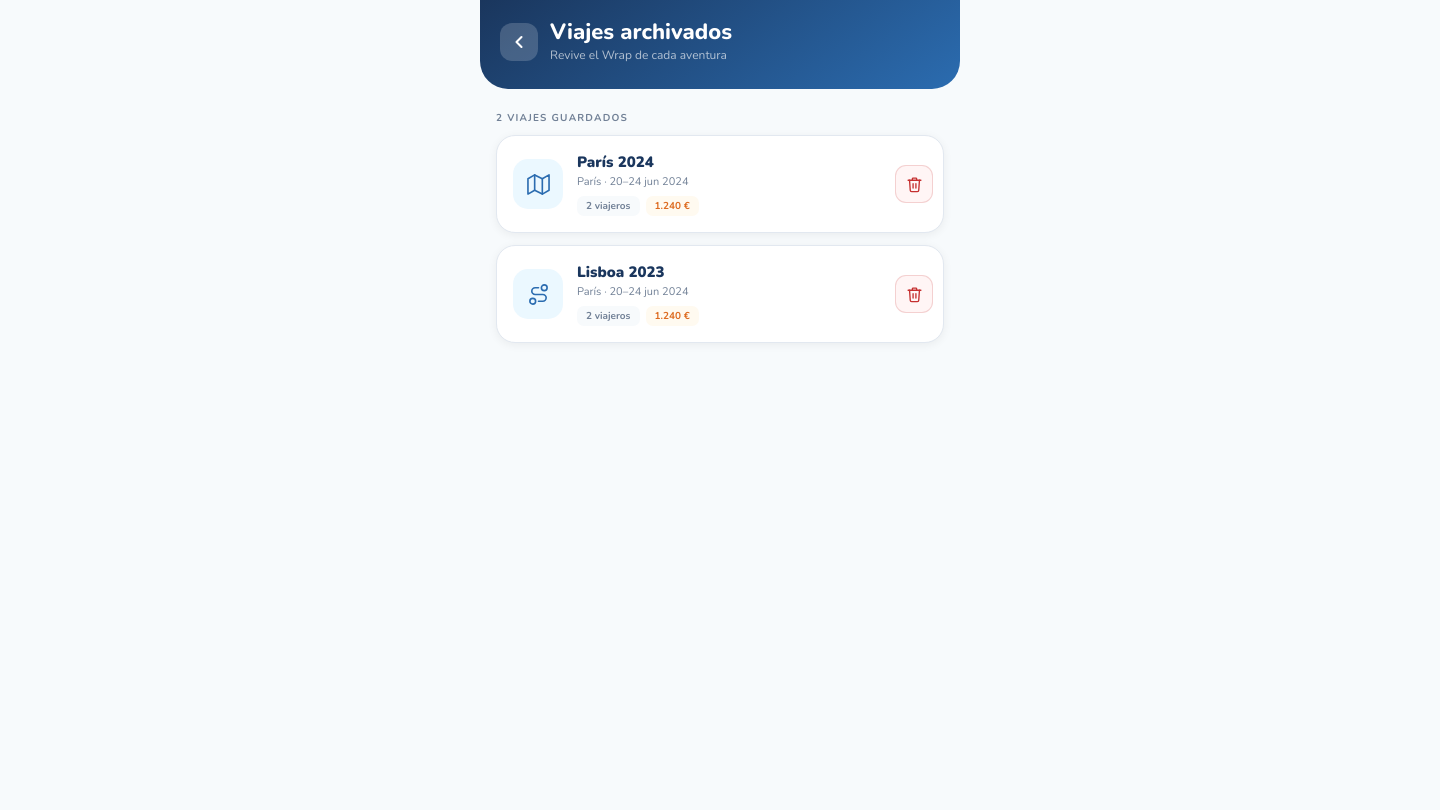
Test: ViajesArchivados · eliminar con confirmación › al confirmar borra el viaje en el backend y lo quita de la lista
Click the button named "Eliminar París 2024".
click(914, 184)  # box [895,165,933,203]
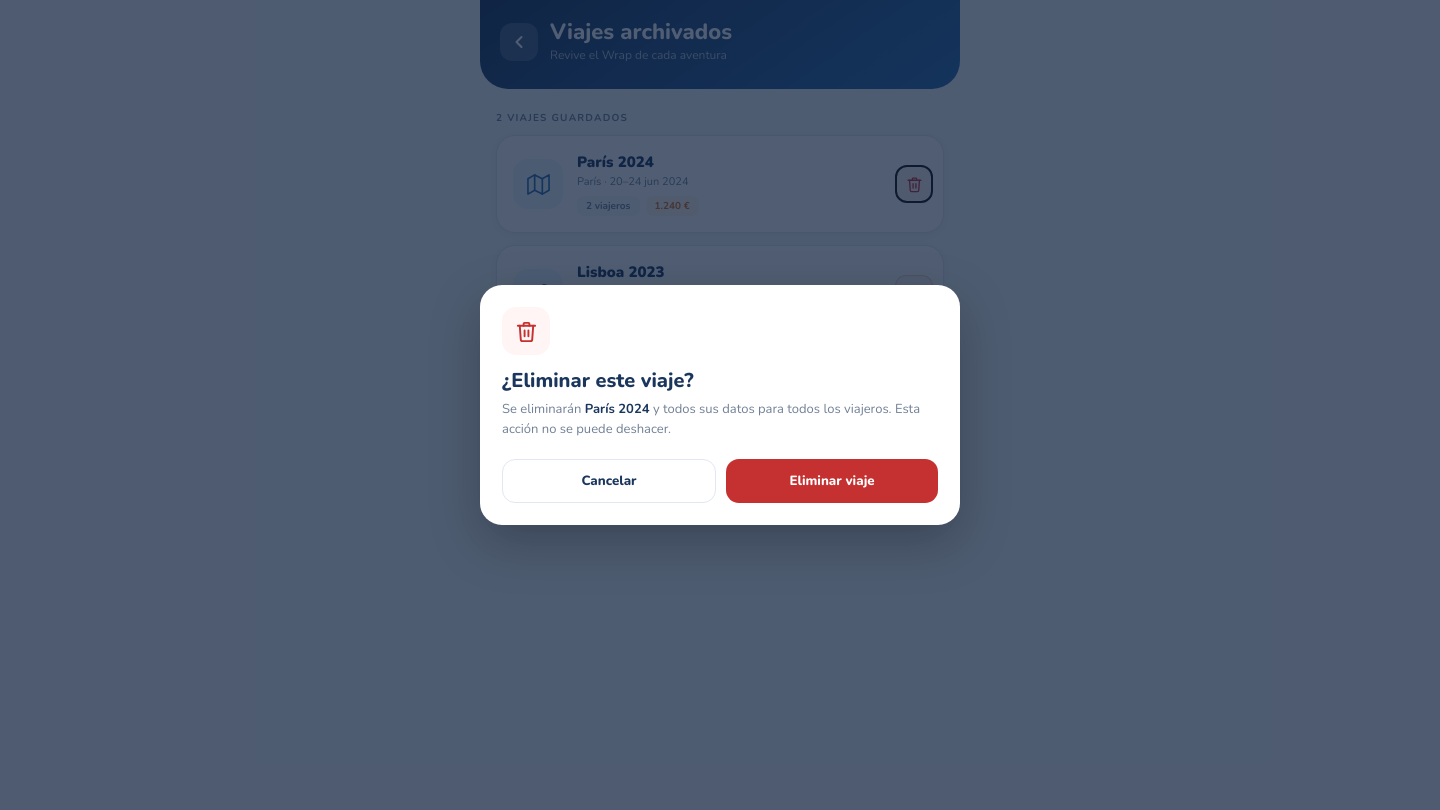
Click the button "Eliminar viaje".
click(832, 481)  # box [726,459,938,503]
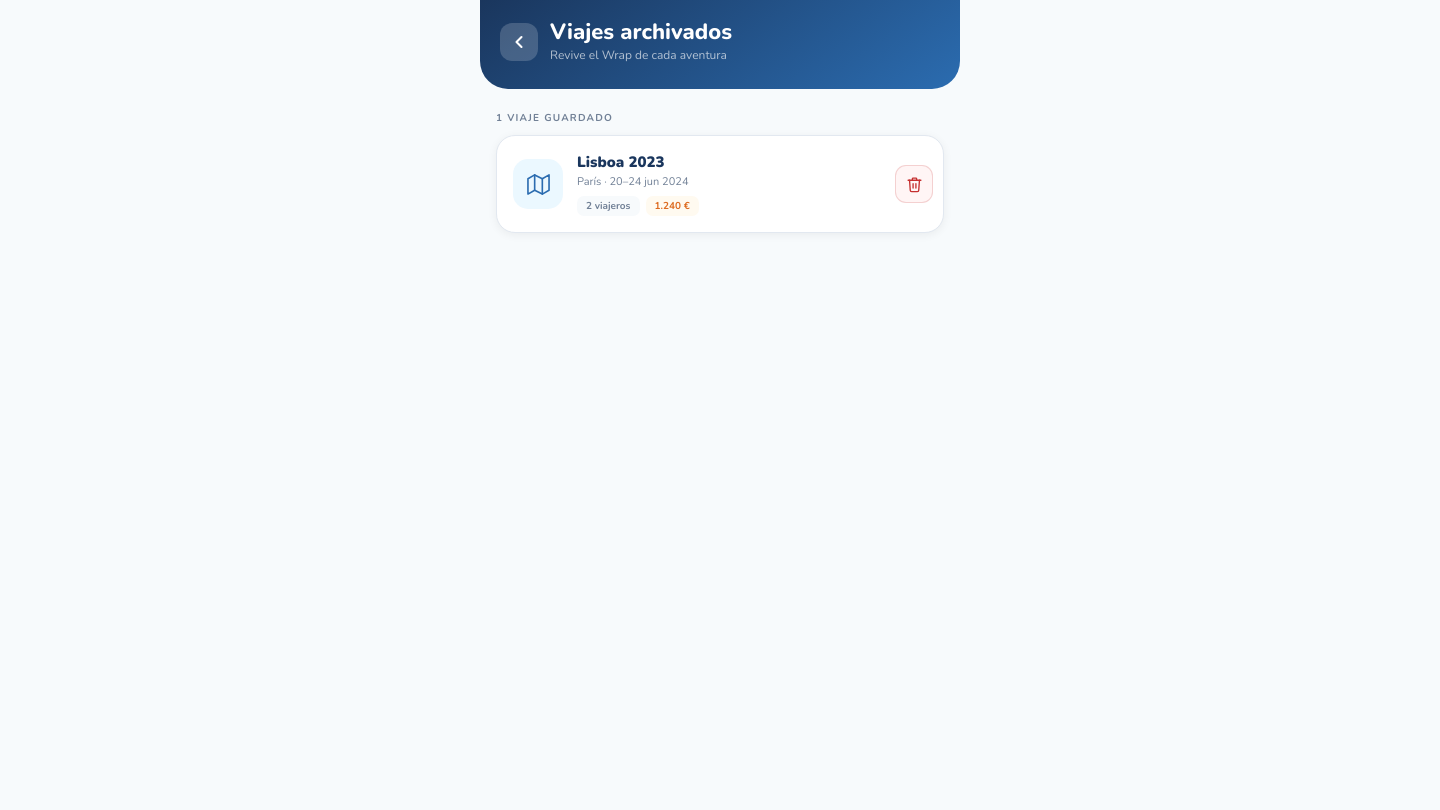
Result: the button "París 2024" is gone
Result: the text "1 viaje guardado" is shown at [496,111,613,125]
Result: the dialog is gone
